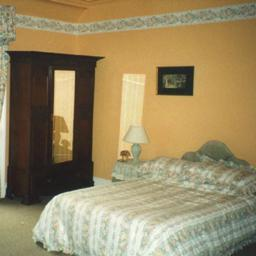Armario: (19, 51, 94, 185)
Cama: (32, 159, 250, 248)
